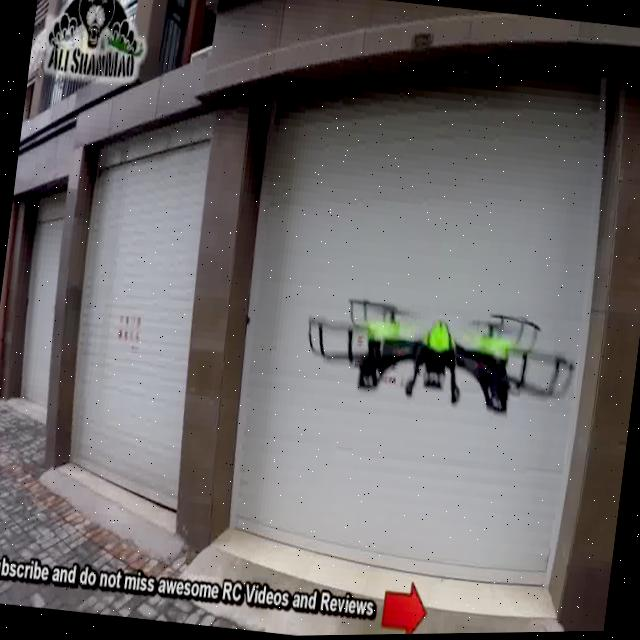drone: (312, 283, 585, 423)
